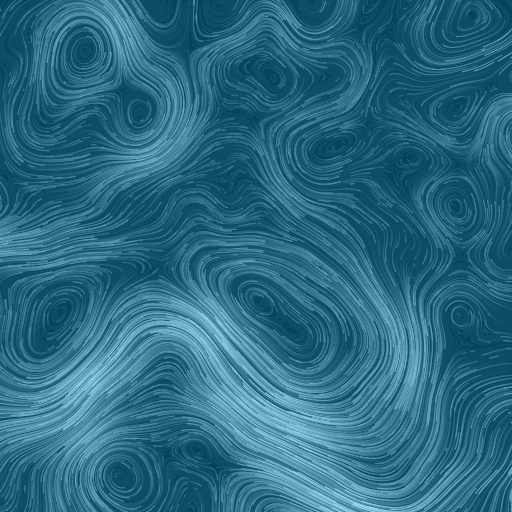eddy: (216, 253, 333, 368), (7, 266, 107, 369), (49, 12, 122, 96), (222, 38, 303, 112), (81, 445, 162, 511), (429, 181, 481, 232), (430, 86, 478, 133), (311, 128, 357, 162), (123, 92, 156, 134), (178, 435, 217, 470), (454, 2, 489, 37), (442, 301, 478, 334), (391, 143, 429, 171)
